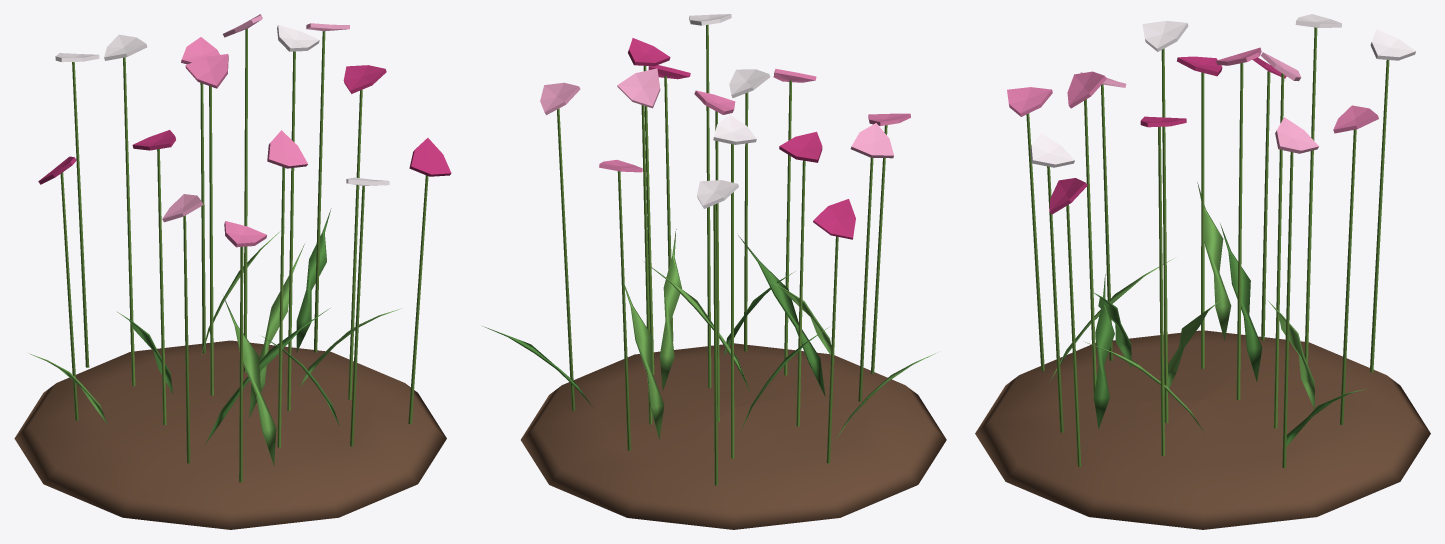
File: cosmos.far.glb
3 views of the same model, side by side, from view 1: azimuth 30°, elevation 25°; view 2: azimuth 150°, elevation 25°; view 3: azimuth 270°, elevation 25° (orthographic). The views are drawn at different scales.
Parts seen in each view (by area): view 1: cosmos; view 2: cosmos; view 3: cosmos.
Boxes of the visible parts, left/top/right/bottom form: cosmos: left=14, top=14, right=451, bottom=529; cosmos: left=482, top=14, right=946, bottom=529; cosmos: left=975, top=14, right=1430, bottom=529.
Size of the model in its own units: 0.8854 by 0.8768 by 0.84.
